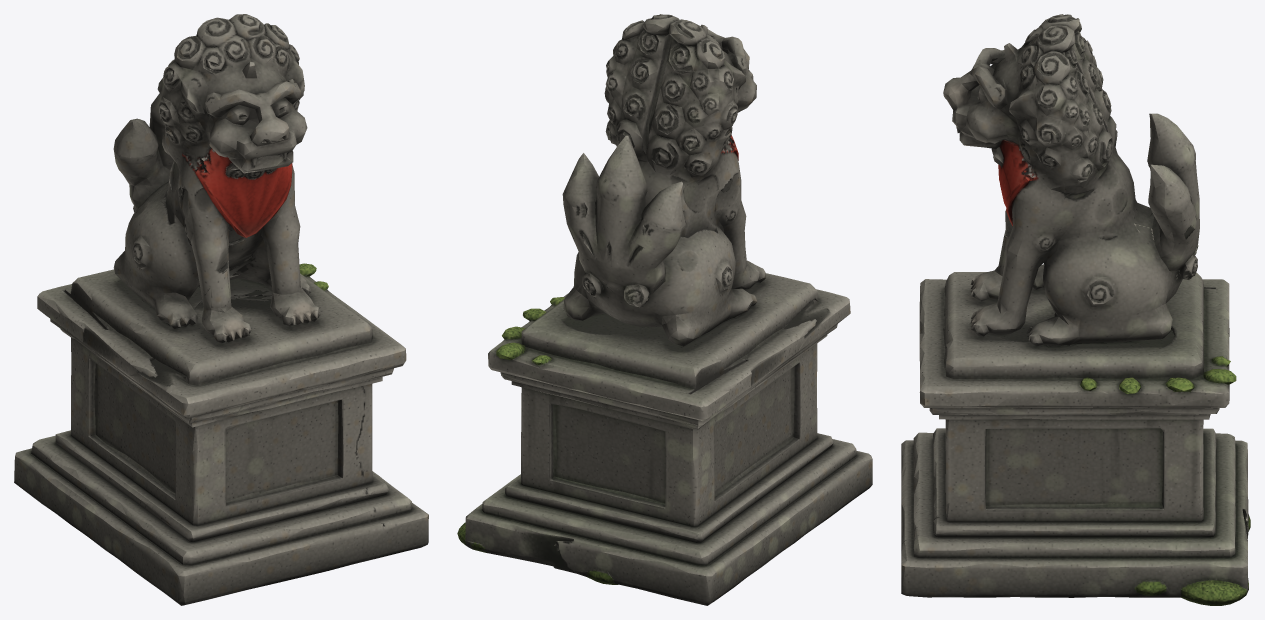
File: komainu_un.glb
3 renders of one model, left to right at view 1: azimuth 30°, elevation 25°; view 2: azimuth 150°, elevation 25°; view 3: azimuth 270°, elevation 25°, orthographic. The views are drawn at different scales.
Parts seen in each view (by area): view 1: komainu_un_LOD0; view 2: komainu_un_LOD0; view 3: komainu_un_LOD0.
Part boxes in pixels (bbox=[...]): komainu_un_LOD0: bbox=[14, 14, 428, 605]; komainu_un_LOD0: bbox=[457, 14, 872, 605]; komainu_un_LOD0: bbox=[901, 14, 1250, 605].
Size of what is drawn, in the model's own units: 1.28 by 2.34 by 1.41.
Materials: 3 (3 with a texture image).
